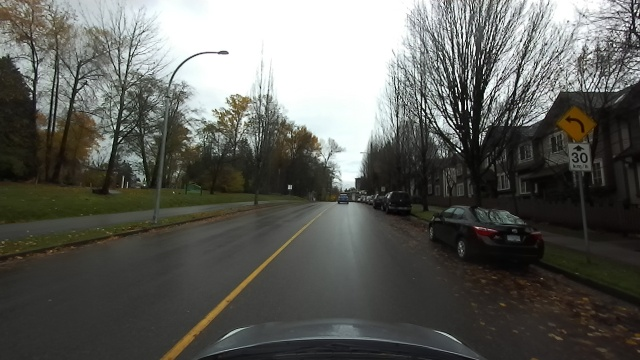car: (424, 199, 547, 267), (380, 190, 414, 215), (371, 192, 386, 211), (336, 193, 351, 206), (364, 192, 376, 204), (354, 191, 364, 202)
